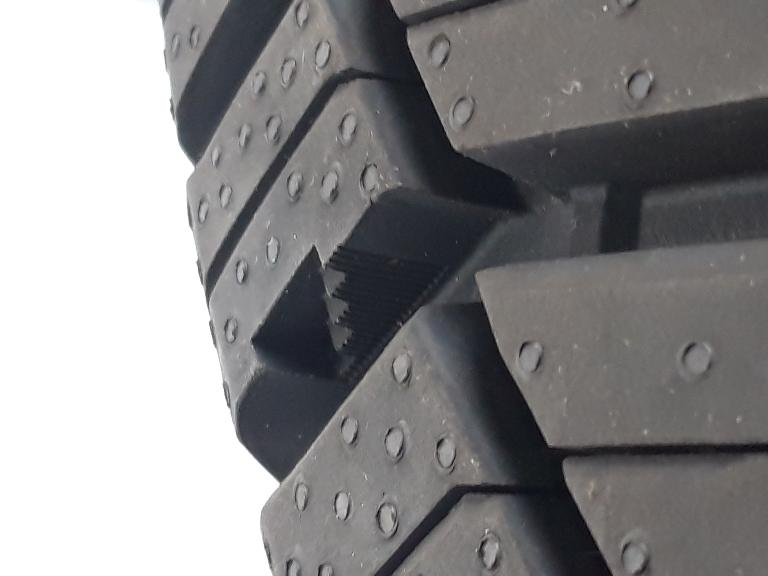temoin:100: (246, 234, 454, 396)
